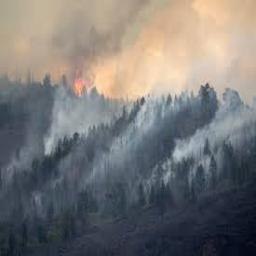Low smoke: (35, 0, 209, 65), (158, 108, 254, 195), (50, 112, 135, 201)
Medium fire: (55, 66, 98, 103)
